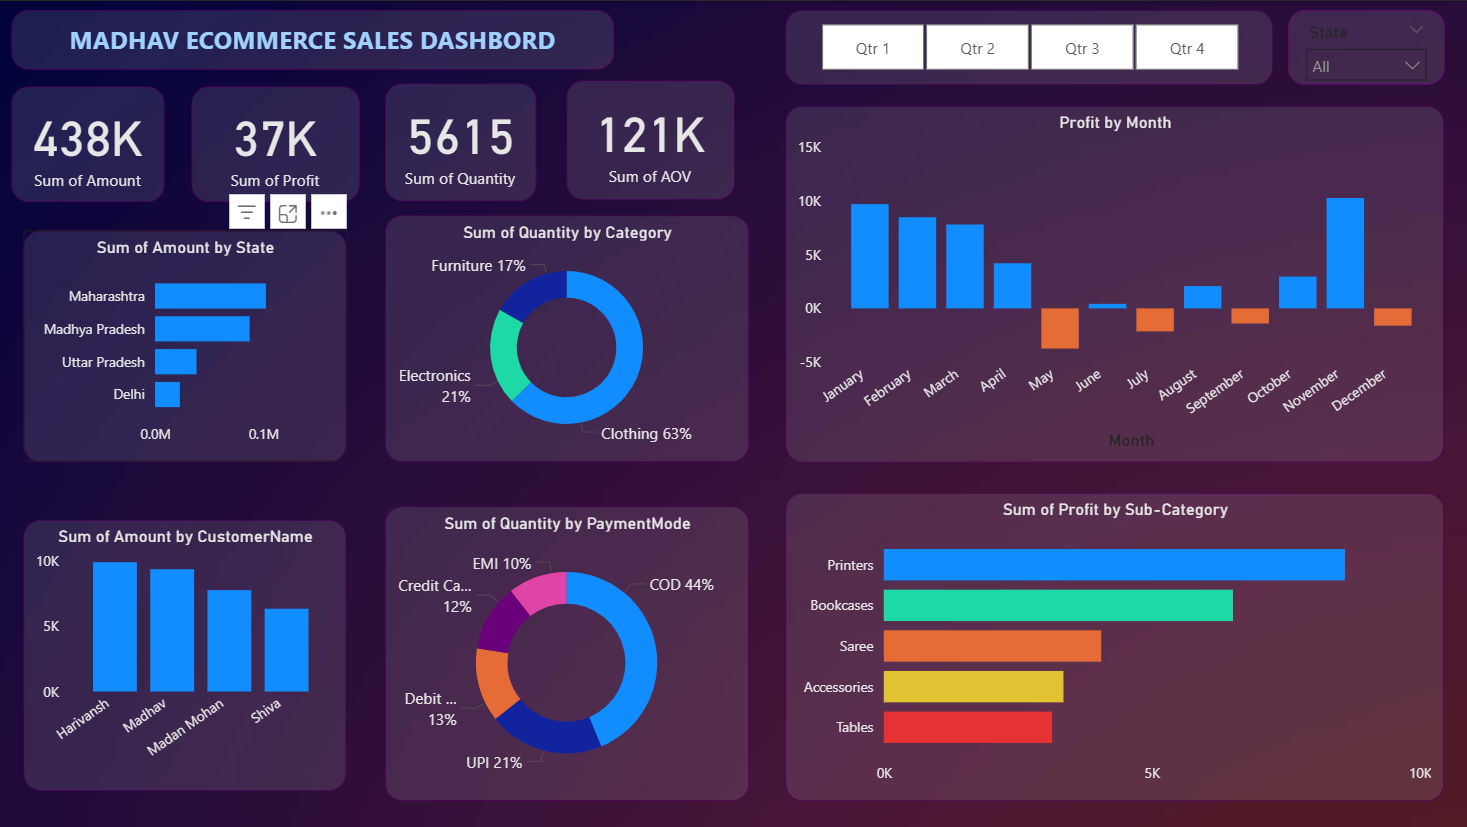

What the dashboard file says about the page in this screenshot:
{"tool":"powerbi","page":{"name":"Page 1","canvas":[1280,720],"ordinal":0},"visuals":[{"type":"textbox","box":[11.4,8.1,525.4,52],"z":0},{"type":"columnChart","title":"Profit by Month","fields":{"Category":["Orders.Order Date.Variation.Date Hierarchy.Month"],"Y":["Details.Profit"]},"box":[686.4,91.1,574.2,310.7],"z":1000},{"type":"barChart","fields":{"Category":["Details.Sub-Category"],"Y":["Details.Profit"]},"box":[686.4,429.4,574.2,268.4],"z":2000},{"type":"donutChart","fields":{"Category":["Details.Category"],"Y":["Details.Quantity"]},"box":[336.7,187.1,317.2,214.7],"z":3000},{"type":"donutChart","fields":{"Y":["Details.Quantity"],"Category":["Details.PaymentMode"]},"box":[336.7,440.8,317.2,257],"z":4000},{"type":"card","fields":{"Values":["Details.Amount"]},"box":[11.4,74.8,133.4,100.8],"z":5000},{"type":"card","fields":{"Values":["Details.Quantity"]},"box":[336.7,71.6,131.8,102.5],"z":6000},{"type":"card","fields":{"Values":["Details.Profit"]},"box":[169.2,74.8,146.4,100.8],"z":7000},{"type":"card","fields":{"Values":["Details.AOV"]},"box":[496.1,69.9,146.4,104.1],"z":8000},{"type":"barChart","fields":{"Category":["Orders.State"],"Y":["Details.Amount"]},"box":[22.8,200.1,281.4,201.7],"z":9000},{"type":"columnChart","fields":{"Category":["Orders.CustomerName"],"Y":["Details.Amount"]},"box":[22.8,452.2,281.4,235.8],"z":10000},{"type":"slicer","fields":{"Values":["Orders.Order Date.Variation.Date Hierarchy.Quarter"]},"box":[686.4,8.1,424.5,65.1],"z":11000},{"type":"slicer","fields":{"Values":["Orders.State"]},"box":[1123.9,8.1,136.6,65.1],"z":12000}]}

Visuals, with their boxes in screenshot pixels (x1, y1, x2, y2), scaled from the page's 1280x720 canvas onto the 1467x827 screenshot:
textbox: bbox(13, 9, 615, 69)
"Profit by Month" columnChart: bbox(787, 105, 1445, 462)
barChart - Details.Sub-Category x Details.Profit: bbox(787, 493, 1445, 802)
donutChart - Details.Category x Details.Quantity: bbox(386, 215, 749, 462)
donutChart - Details.Quantity x Details.PaymentMode: bbox(386, 506, 749, 802)
card - Details.Amount: bbox(13, 86, 166, 202)
card - Details.Quantity: bbox(386, 82, 537, 200)
card - Details.Profit: bbox(194, 86, 362, 202)
card - Details.AOV: bbox(569, 80, 736, 200)
barChart - Orders.State x Details.Amount: bbox(26, 230, 349, 462)
columnChart - Orders.CustomerName x Details.Amount: bbox(26, 519, 349, 790)
slicer - Orders.Order Date.Variation.Date Hierarchy.Quarter: bbox(787, 9, 1273, 84)
slicer - Orders.State: bbox(1288, 9, 1445, 84)
